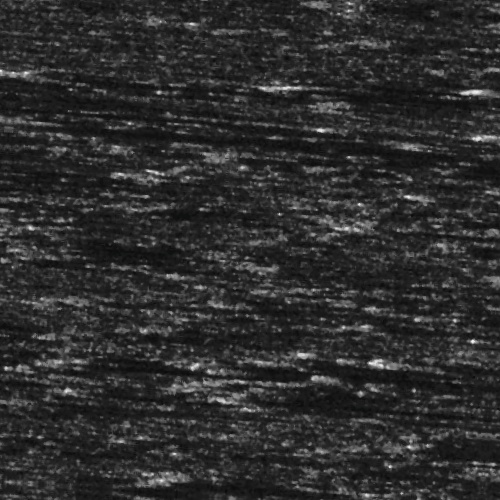object: (182, 361, 275, 374), (169, 475, 232, 494), (295, 214, 388, 223), (93, 396, 146, 405), (2, 412, 75, 417)
shadow: (200, 475, 364, 494), (0, 184, 207, 199), (229, 361, 448, 374), (0, 109, 218, 120), (341, 214, 493, 223), (120, 396, 269, 405), (39, 412, 268, 417), (0, 350, 101, 357), (0, 135, 51, 142)
